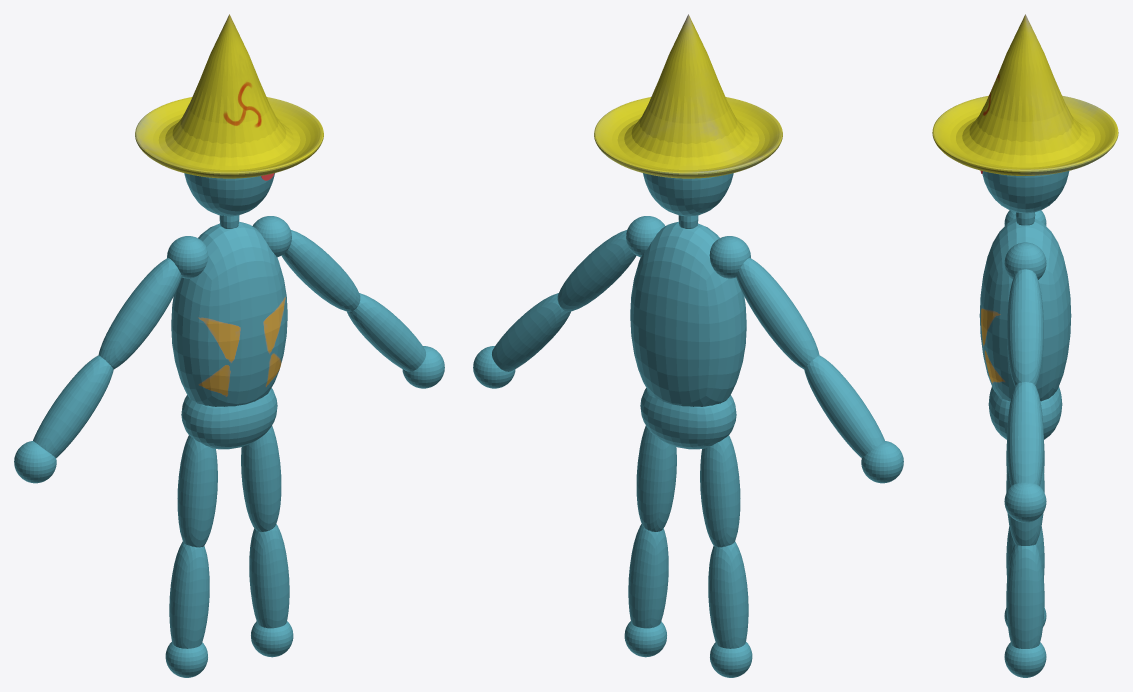
Rendered from Wizard full.glb.
The picture shows the model from 3 angles, left to right: view 1: azimuth 30°, elevation 25°; view 2: azimuth 150°, elevation 25°; view 3: azimuth 270°, elevation 25°; orthographic projection.
Visible parts, largest first — view 1: Cube.005, Cube.018, Cube.004; view 2: Cube.005, Cube.018, Cube.004; view 3: Cube.005, Cube.018, Cube.004.
Boxes of the visible parts, x1,y1,x2,y2 form: Cube.005: (14,215,444,677); Cube.018: (135,14,323,178); Cube.004: (184,173,274,216); Cube.005: (473,215,903,677); Cube.018: (594,14,782,178); Cube.004: (643,173,733,216); Cube.005: (979,210,1071,677); Cube.018: (932,14,1118,175); Cube.004: (982,171,1069,213).
Size of the model in its own units: 1.47 by 2.15 by 0.5655.
4 materials, 3 textured.
